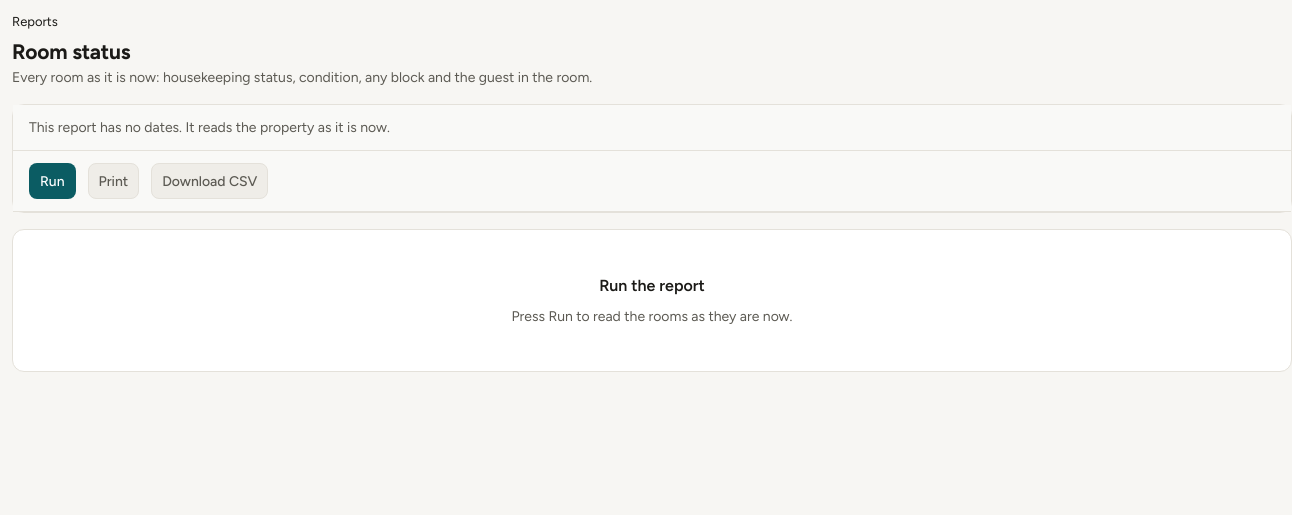
Test: ReportRunnerScreen: Part C night audit and housekeeping › the room status report has nothing to choose and runs straight away
Expected: the text with test id "report-no-params" is shown, [29,118,390,138]
Expected: the element with test id "report-idle" shows "Press Run to read the rooms as they are now.", [512,308,792,326]
Click the button with test id "report-run".
click(52, 182)  # box [29,164,76,200]
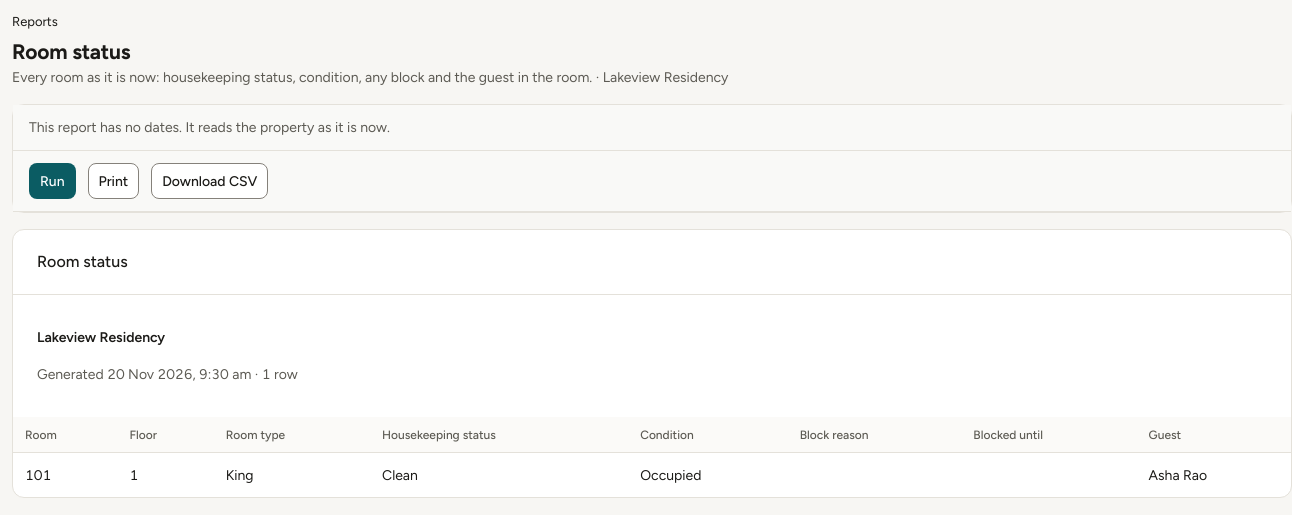
Result: the element with test id "report-card" is shown at [13,230,1291,498]
Result: the text "Asha Rao" is shown at [1149,467,1207,484]
